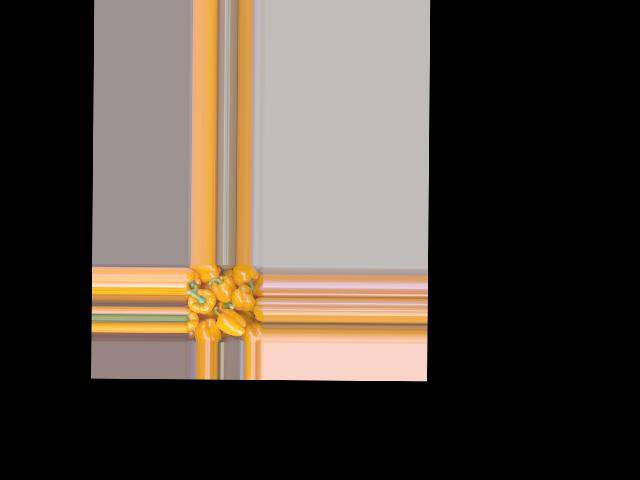bell_pepper: (247, 272, 264, 302)
